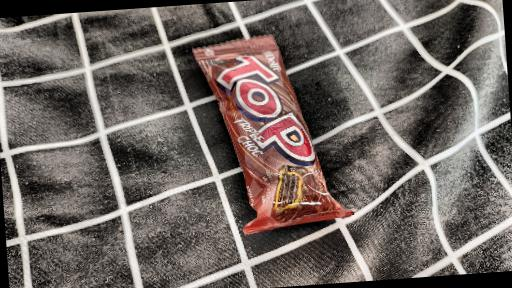top: (185, 29, 357, 234)
